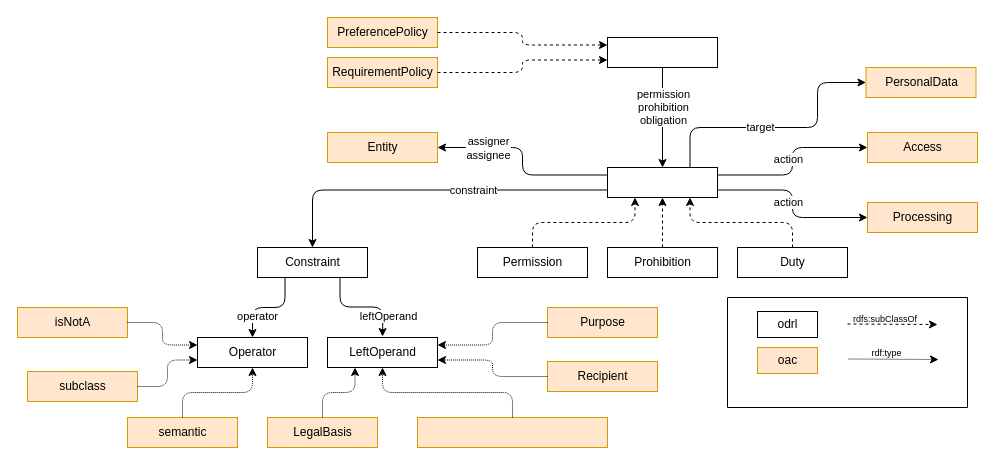
The diagram is 995 pixels wide and 465 high, and some of its shapes have lost their labels. The shapes that lost their labels are listed below. From the top down, each one's box as (x1, y1, x2, y2) in pixels, then its label:
(606, 36, 718, 68): Policy
(606, 166, 718, 198): Rule
(726, 296, 968, 408): Legend
(416, 416, 608, 448): TechnicalOrganisationalMeasure
